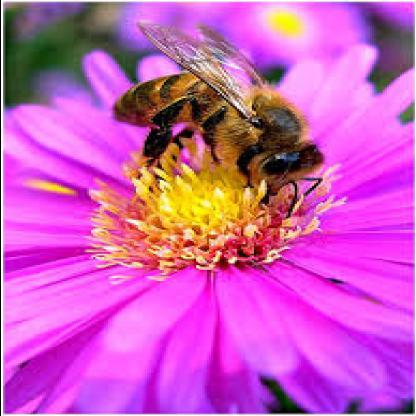other: (100, 18, 332, 196)
